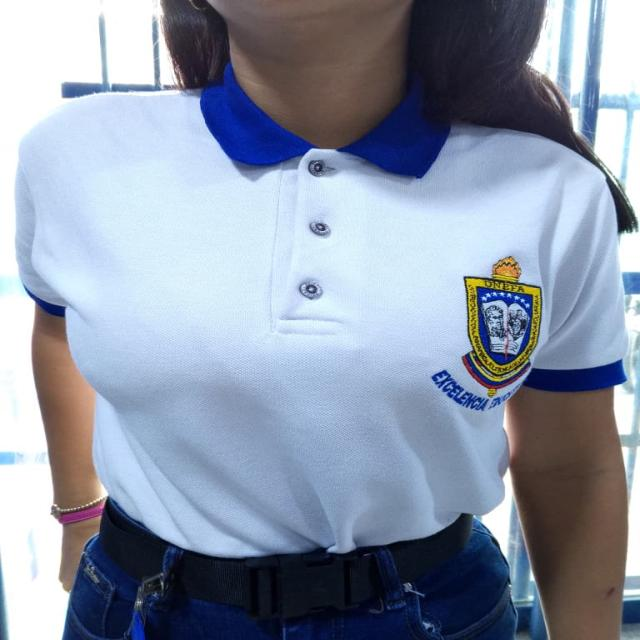uniforme_superior: (13, 53, 629, 560)
